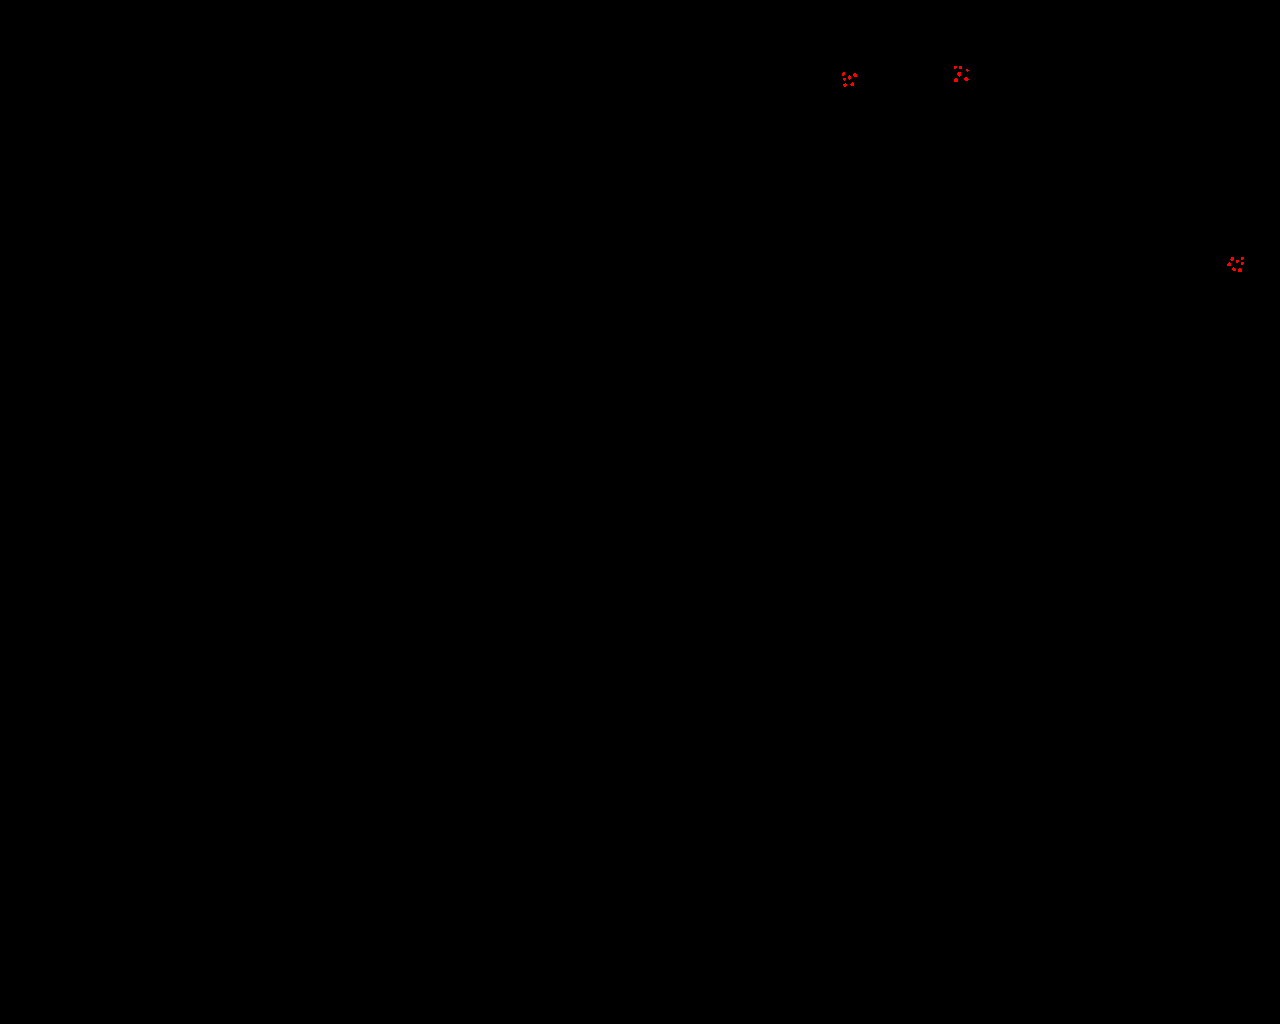Target: (957, 72, 961, 77), (853, 73, 857, 77), (964, 77, 969, 82), (850, 82, 854, 86), (843, 83, 847, 87), (1230, 257, 1234, 261), (1227, 262, 1231, 266), (1238, 267, 1242, 272), (842, 72, 845, 76), (954, 78, 958, 82), (1232, 267, 1236, 271), (848, 75, 851, 80), (954, 66, 957, 69), (959, 66, 962, 69), (965, 69, 969, 72), (843, 78, 846, 82), (1241, 257, 1244, 260), (1236, 260, 1239, 263), (1241, 262, 1244, 265)
